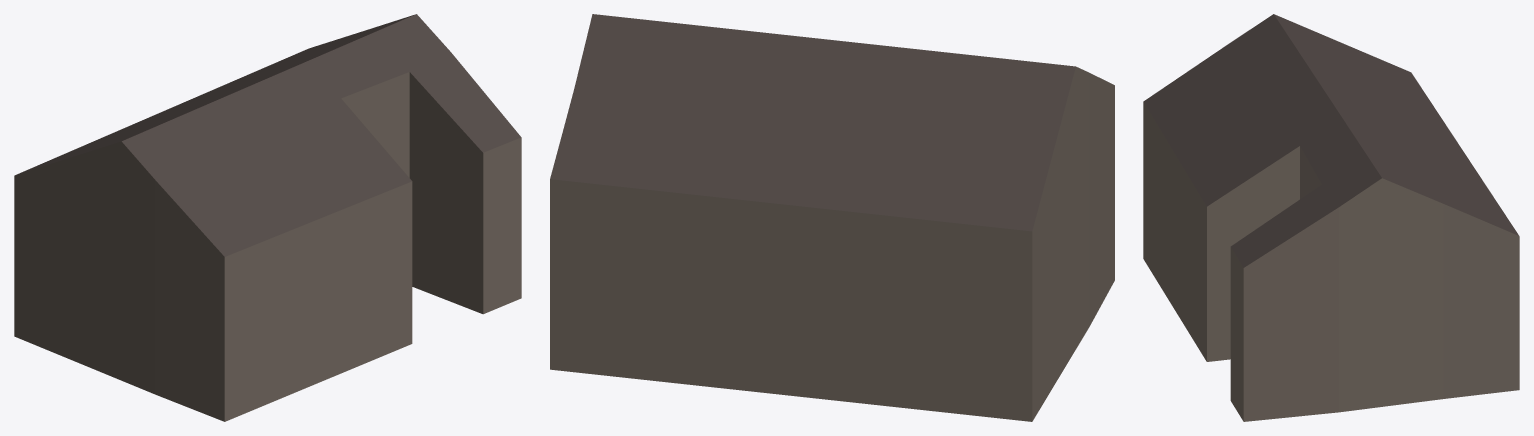
3 renders of one model, left to right at view 1: azimuth 30°, elevation 25°; view 2: azimuth 150°, elevation 25°; view 3: azimuth 270°, elevation 25°, orthographic. The views are drawn at different scales.
Visible parts, largest first — view 1: HP-w1198843248; view 2: HP-w1198843248; view 3: HP-w1198843248.
Part boxes in pixels (left/top/right/bottom): HP-w1198843248: left=14, top=14, right=521, bottom=421; HP-w1198843248: left=550, top=14, right=1114, bottom=421; HP-w1198843248: left=1143, top=14, right=1519, bottom=421.
Size of the model in its own units: 24.53 by 13.37 by 19.92.
